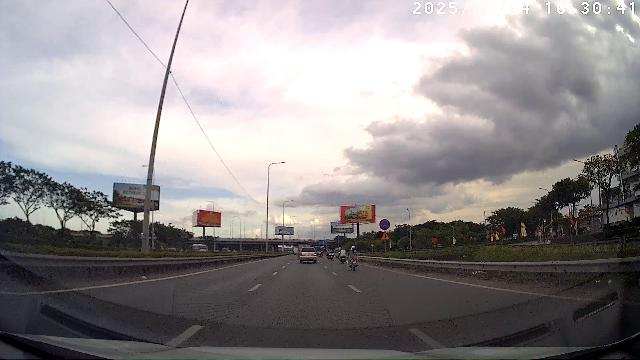130-cam-dung-va-do-xe: (380, 220, 390, 230)
